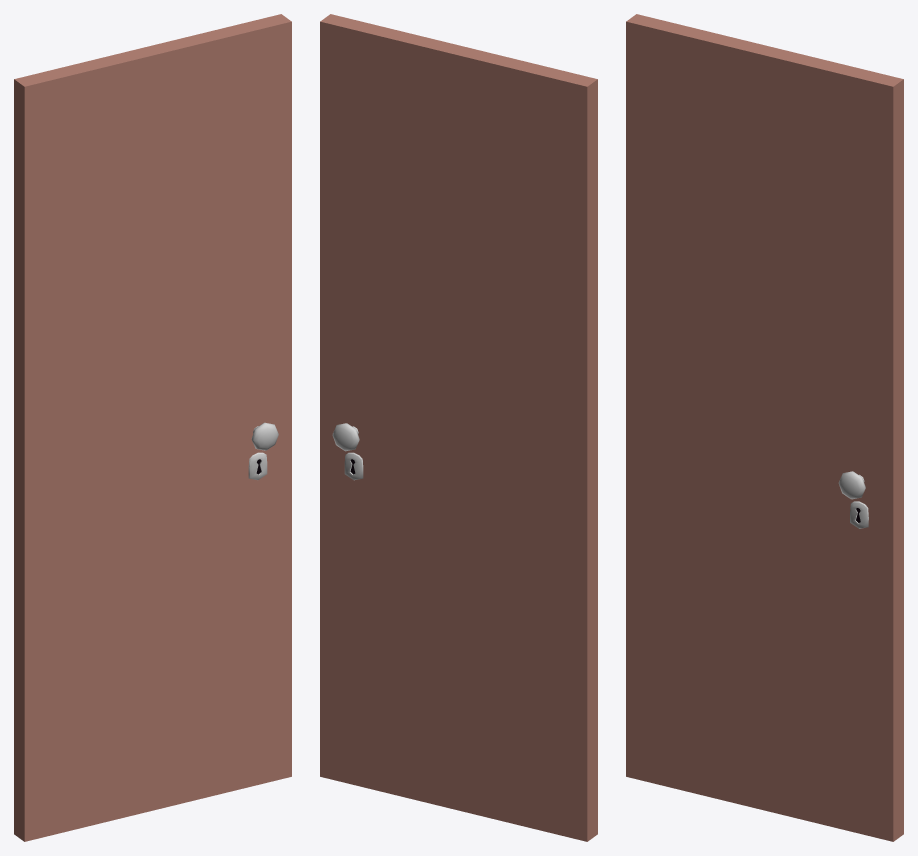
The model's file is Door2Way.fbx.
The picture shows the model from 3 angles, left to right: view 1: azimuth 30°, elevation 25°; view 2: azimuth 150°, elevation 25°; view 3: azimuth 330°, elevation 25°; orthographic projection.
Visible parts, largest first — view 1: Door_2Way; view 2: Door_2Way; view 3: Door_2Way.
Boxes of the visible parts, x1,y1,x2,y2 form: Door_2Way: (14, 14, 291, 841); Door_2Way: (320, 14, 597, 841); Door_2Way: (626, 14, 903, 841).
Size of the model in its own units: 1 by 2.7 by 0.2105.
